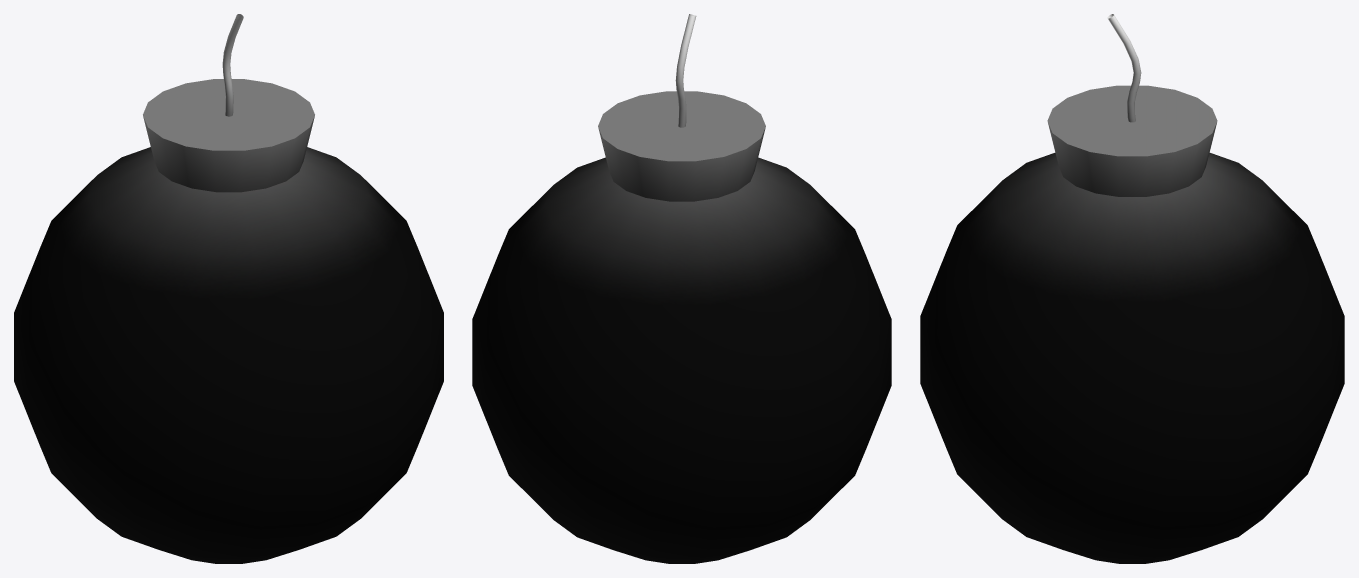
Rendered from Bomb.FBX.
The picture shows the model from 3 angles, left to right: view 1: azimuth 30°, elevation 25°; view 2: azimuth 150°, elevation 25°; view 3: azimuth 270°, elevation 25°; orthographic projection. The views are drawn at different scales.
Visible parts, largest first — view 1: Boomb; view 2: Boomb; view 3: Boomb.
Boxes of the visible parts, left/top/right/bottom form: Boomb: left=14, top=14, right=443, bottom=563; Boomb: left=472, top=14, right=891, bottom=563; Boomb: left=920, top=14, right=1344, bottom=563.
Bounding box in the file's own units: 7.19 × 10.08 × 7.3.
Materials: 1 (1 with a texture image).
